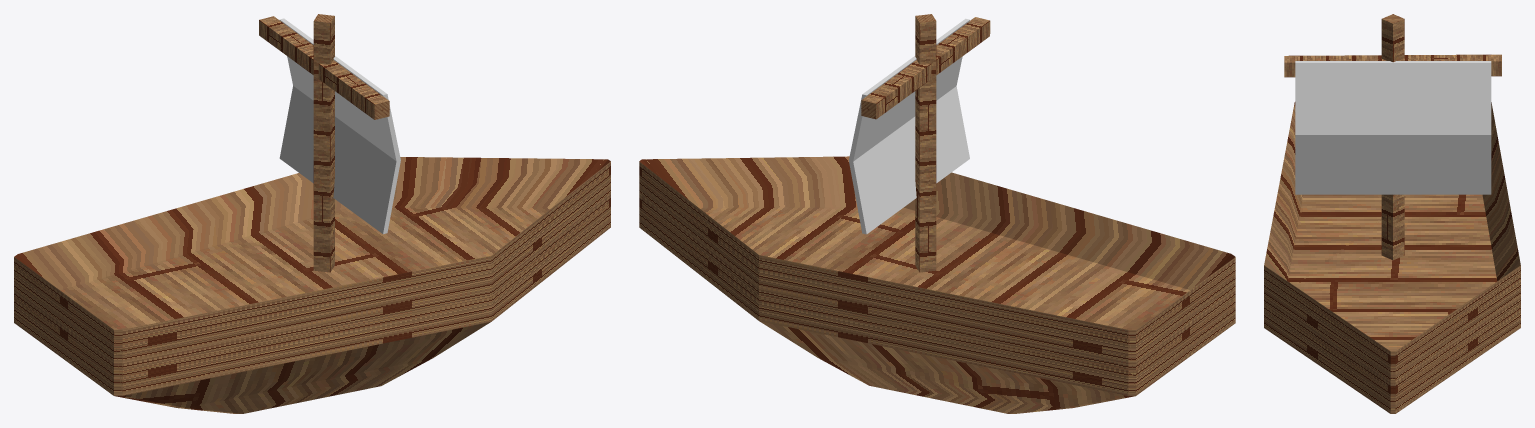
File: ship_model_2.fbx
The picture shows the model from 3 angles, left to right: view 1: azimuth 30°, elevation 25°; view 2: azimuth 150°, elevation 25°; view 3: azimuth 270°, elevation 25°; orthographic projection. The views are drawn at different scales.
Parts seen in each view (by area): view 1: ship, sail; view 2: ship, sail; view 3: ship, sail.
Part boxes in pixels (left/top/right/bottom): ship: left=14, top=14, right=610, bottom=413; sail: left=279, top=18, right=400, bottom=234; ship: left=639, top=14, right=1235, bottom=413; sail: left=848, top=18, right=969, bottom=234; ship: left=1264, top=14, right=1520, bottom=413; sail: left=1295, top=61, right=1491, bottom=194.
Size of the model in its own units: 259 by 162 by 111.
